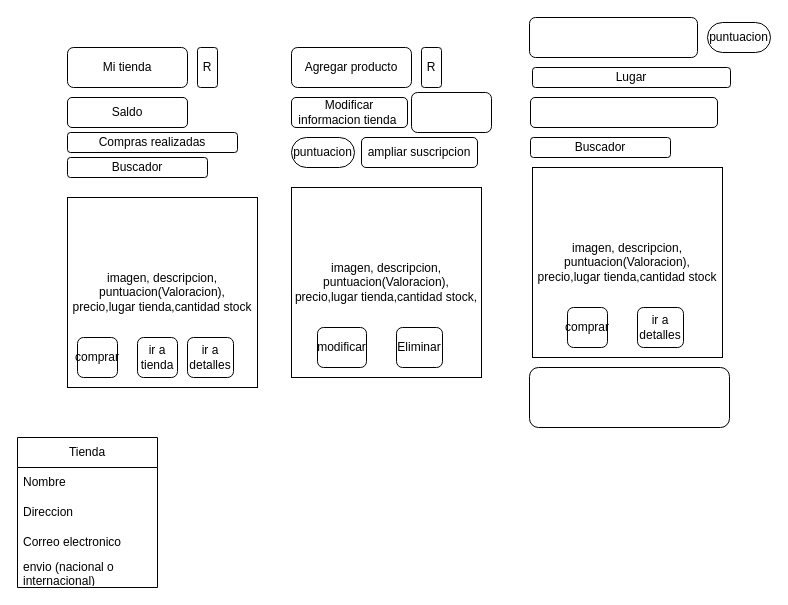
Image size: 788x605. Some labels were removed from this diagram. The shapes that lost their labels are listed below. From the top down, each one's centre as x and y in pixels, then its label:
At [613,37]: "Nombre tienda".
At [451,112]: "Ventas realizadas".
At [624,112]: "envios (nacional o internacional)".
At [629,397]: "Comentarios y valoraciones".
